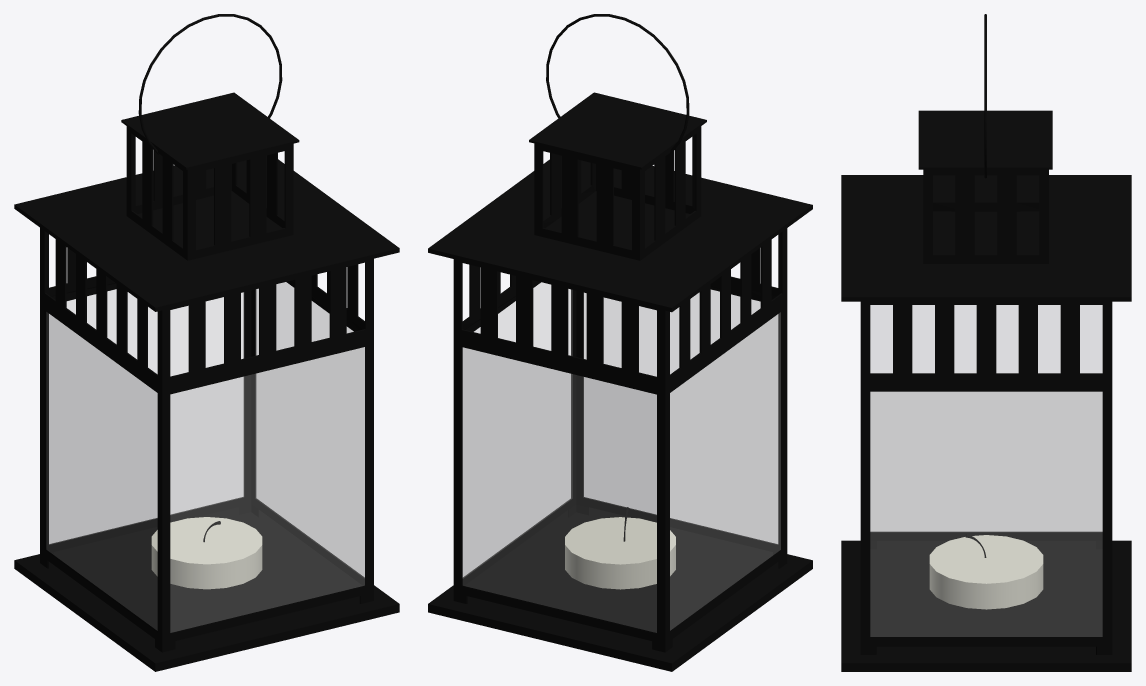
File: Lantern.fbx
3 renders of one model, left to right at view 1: azimuth 30°, elevation 25°; view 2: azimuth 150°, elevation 25°; view 3: azimuth 270°, elevation 25°, orthographic. The views are drawn at different scales.
Visible parts, largest first — view 1: Candle; view 2: Candle; view 3: Candle.
Part boxes in pixels (x1=…): Candle: x1=14, y1=14, x2=399, y2=671; Candle: x1=428, y1=14, x2=812, y2=671; Candle: x1=841, y1=14, x2=1131, y2=671.
Bounding box in the file's own units: 30 × 67.37 × 30.
Materials: 3 (1 with a texture image).
